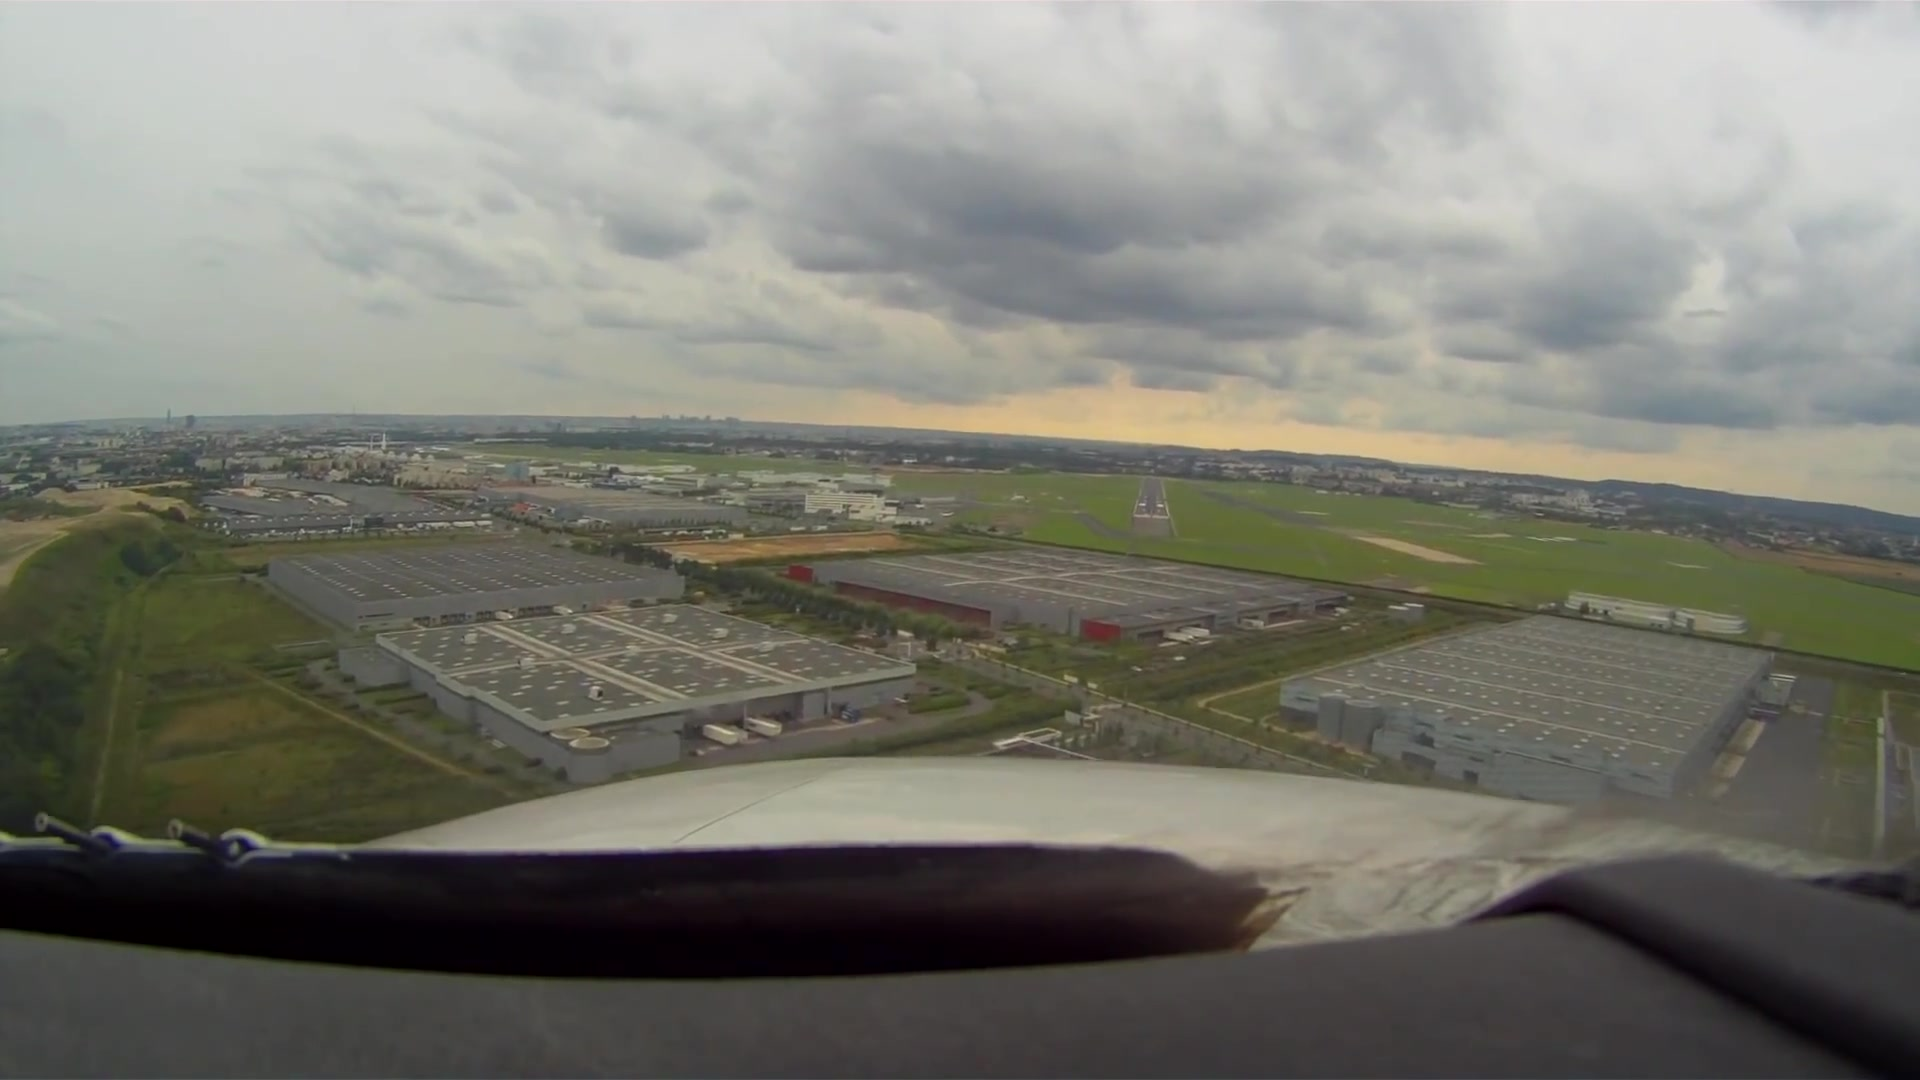runway: (1131, 476, 1170, 521)
